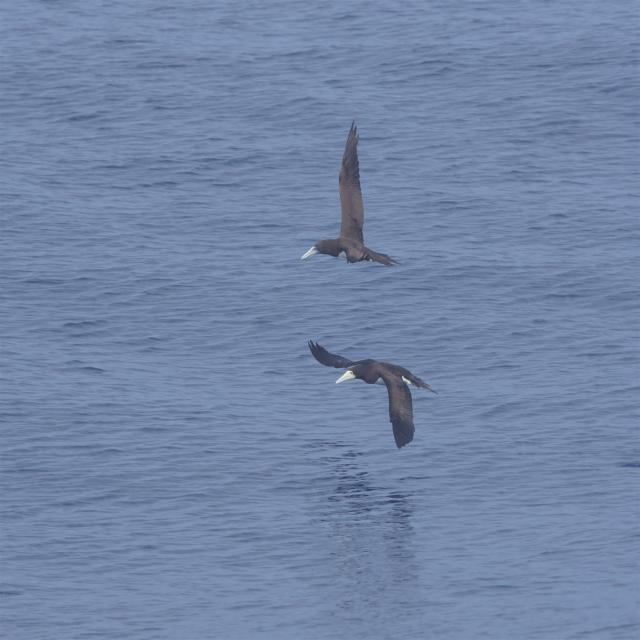bird: (306, 121, 404, 270), (304, 342, 436, 449)
